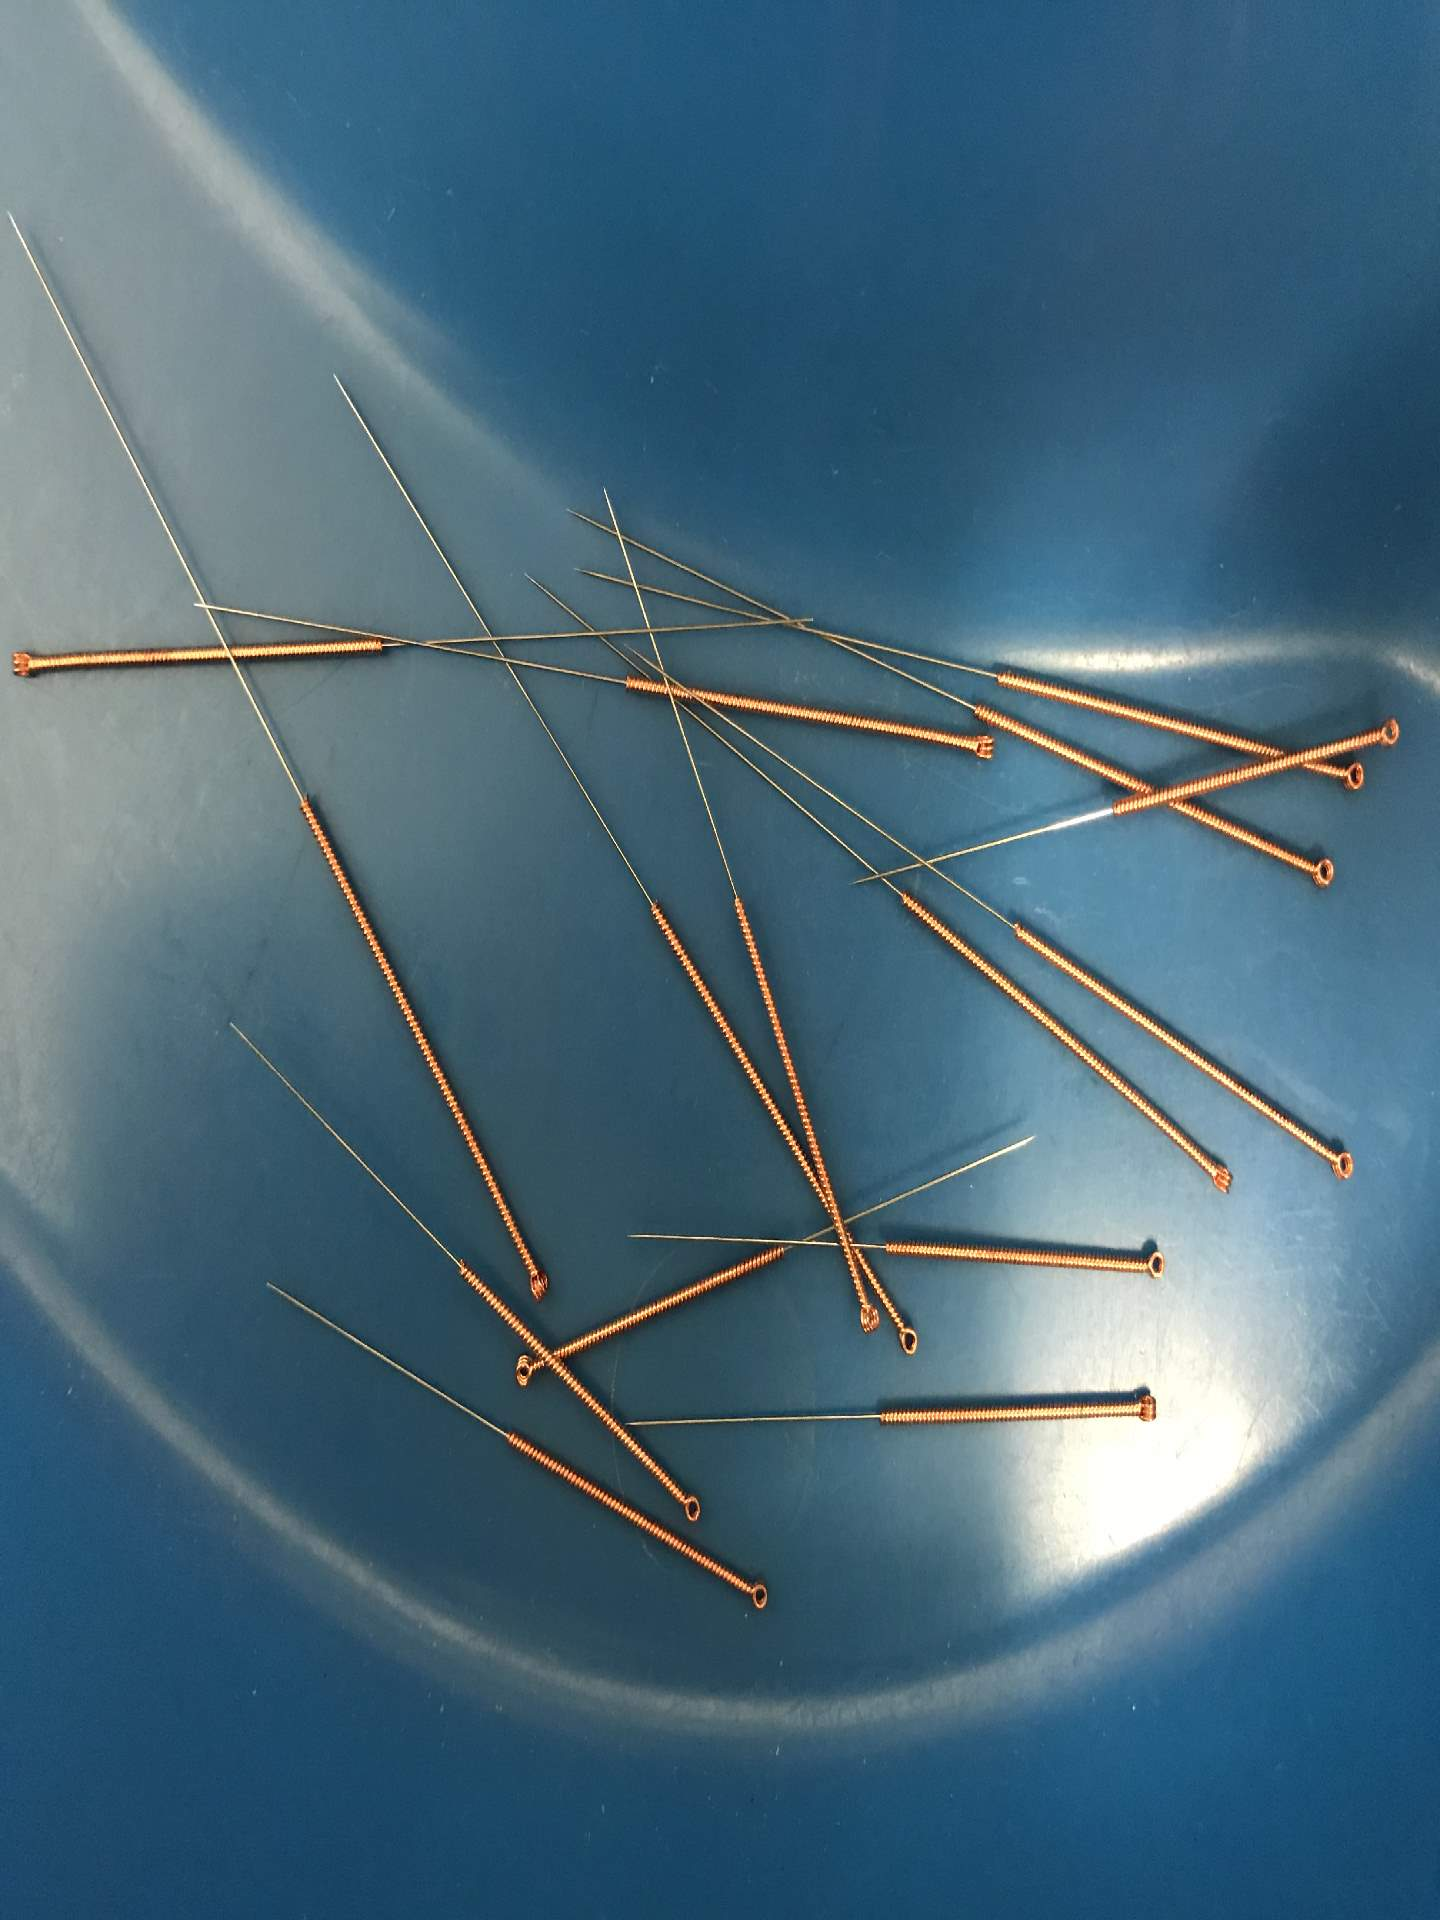needle: (1299, 847, 1348, 898), (1196, 1147, 1243, 1200), (514, 1250, 560, 1305), (883, 1311, 929, 1364), (846, 1288, 885, 1346), (1321, 1138, 1364, 1190), (1122, 1383, 1166, 1432), (5, 638, 45, 689), (669, 1482, 712, 1528), (1366, 708, 1407, 756), (734, 1569, 774, 1616), (1134, 1238, 1172, 1288), (961, 723, 1001, 768), (510, 1346, 545, 1392), (1333, 754, 1370, 797)
